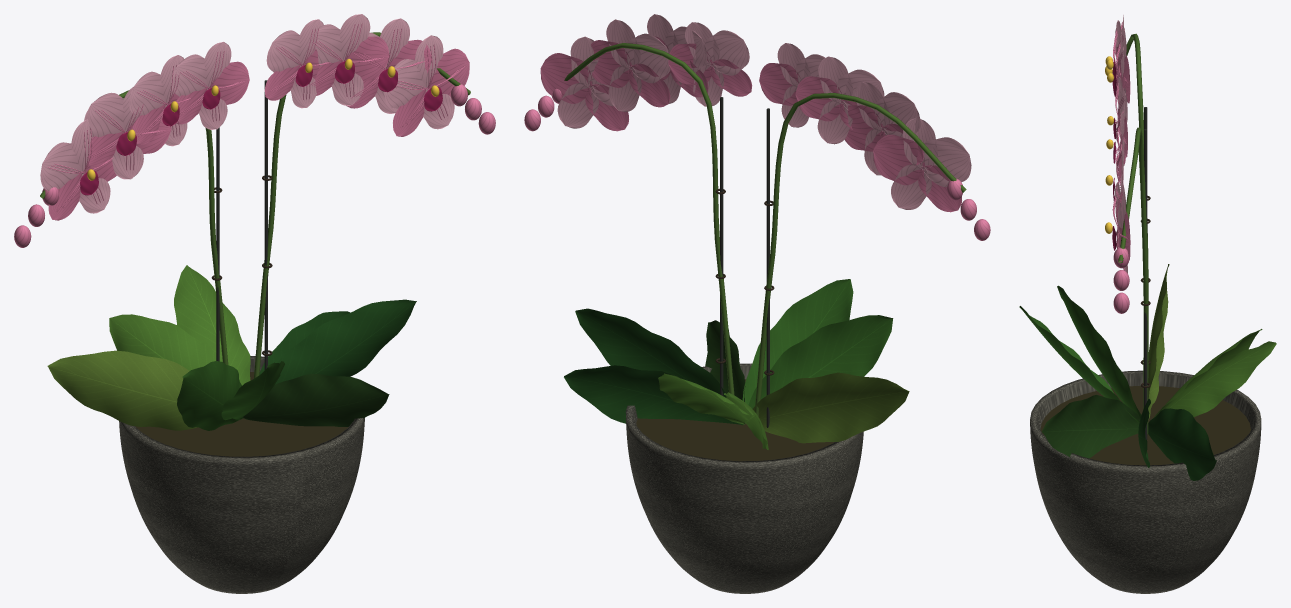
The model's file is 07-pink-orchid-stone-pot.glb.
The picture shows the model from 3 angles, left to right: view 1: azimuth 30°, elevation 25°; view 2: azimuth 150°, elevation 25°; view 3: azimuth 270°, elevation 25°; orthographic projection. The views are drawn at different scales.
Parts seen in each view (by area): view 1: Gray stone ceramic, Soft orchid petals, Rose orchid petals, Leaf green 4, Leaf green 2, Leaf green 0, Leaf green 3, Potting soil, Leaf green 1, Botanical stems, Deep rose flower throat, Charcoal steel (+1 smaller); view 2: Gray stone ceramic, Soft orchid petals, Rose orchid petals, Leaf green 0, Leaf green 1, Leaf green 4, Botanical stems, Potting soil, Leaf green 2, Charcoal steel, Leaf green 3; view 3: Gray stone ceramic, Potting soil, Leaf green 3, Leaf green 2, Leaf green 1, Leaf green 0, Rose orchid petals, Botanical stems, Leaf green 4, Soft orchid petals, Charcoal steel, Golden flower center (+1 smaller).
Boxes of the visible parts, box(x1,y1,x2,y2) form: Gray stone ceramic: box(119, 356, 364, 593); Soft orchid petals: box(40, 14, 454, 213); Rose orchid petals: box(14, 23, 495, 247); Leaf green 4: box(47, 350, 197, 430); Leaf green 2: box(109, 265, 250, 385); Leaf green 0: box(242, 299, 416, 418); Leaf green 3: box(242, 373, 389, 426); Potting soil: box(135, 372, 348, 456); Leaf green 1: box(177, 361, 284, 430); Botanical stems: box(40, 32, 470, 378); Deep rose flower throat: box(80, 61, 442, 195); Charcoal steel: box(216, 80, 267, 369); Gray stone ceramic: box(625, 363, 863, 593); Soft orchid petals: box(557, 14, 971, 209); Rose orchid petals: box(524, 35, 990, 240); Leaf green 0: box(564, 308, 744, 425); Leaf green 1: box(742, 279, 893, 423); Leaf green 4: box(744, 372, 909, 443); Botanical stems: box(564, 43, 966, 416); Potting soil: box(636, 379, 834, 461); Leaf green 2: box(658, 373, 768, 449); Charcoal steel: box(720, 97, 769, 427); Leaf green 3: box(705, 320, 745, 401); Gray stone ceramic: box(1030, 370, 1261, 593); Potting soil: box(1040, 386, 1250, 465); Leaf green 3: box(1042, 395, 1140, 458); Leaf green 2: box(1154, 329, 1276, 417); Leaf green 1: box(1019, 285, 1141, 422); Leaf green 0: box(1138, 399, 1216, 480); Rose orchid petals: box(1112, 22, 1130, 313); Botanical stems: box(1118, 33, 1148, 433); Leaf green 4: box(1148, 264, 1169, 419); Soft orchid petals: box(1115, 15, 1127, 273); Charcoal steel: box(1144, 107, 1147, 439); Golden flower center: box(1105, 56, 1113, 233).
Size of the model in its own units: 0.516 by 0.5632 by 0.2562.
14 materials, 9 textured.
